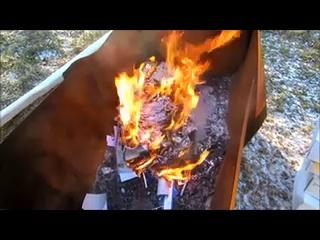Fire: (115, 26, 243, 181)
